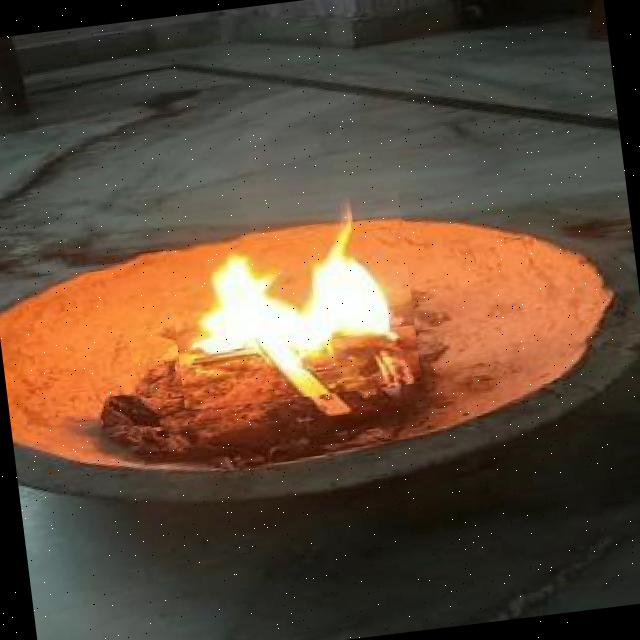fire: (162, 190, 422, 412)
